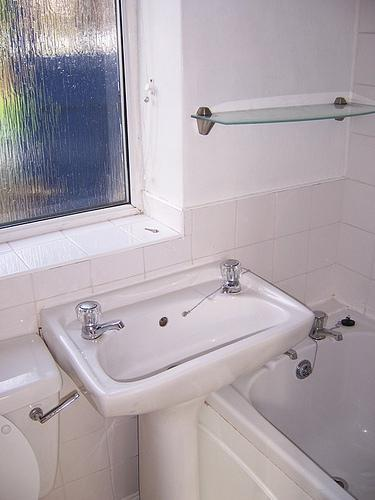Lavamanos: (40, 258, 312, 420)
